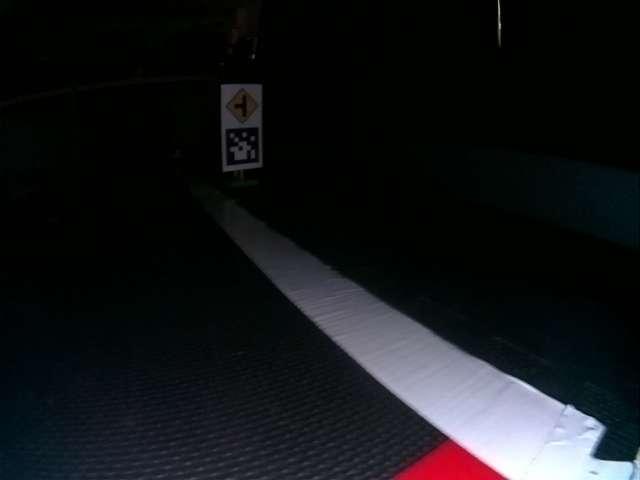Intersection sign: (226, 89, 260, 124)
QR code: (224, 127, 259, 166)
